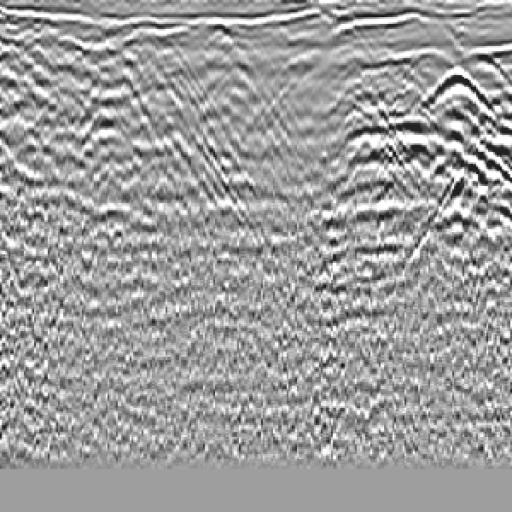non-metallic: (403, 52, 512, 164)
